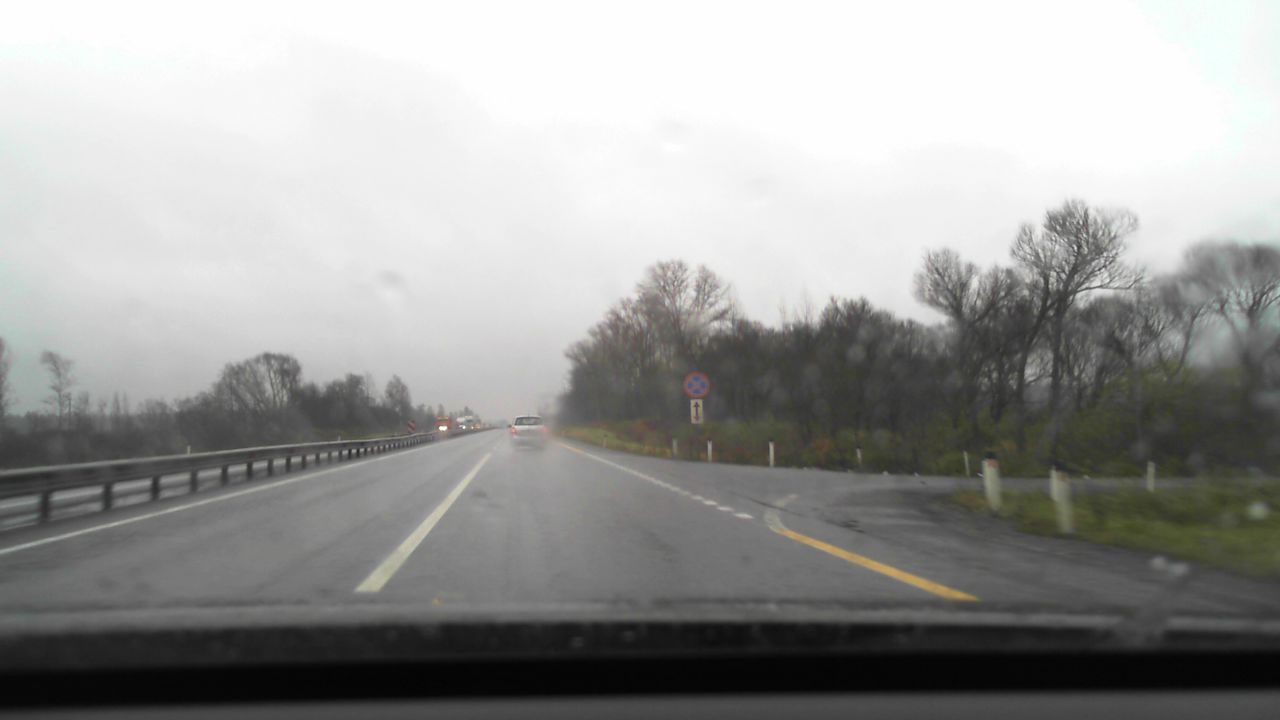No Parking: (683, 372, 709, 397)
